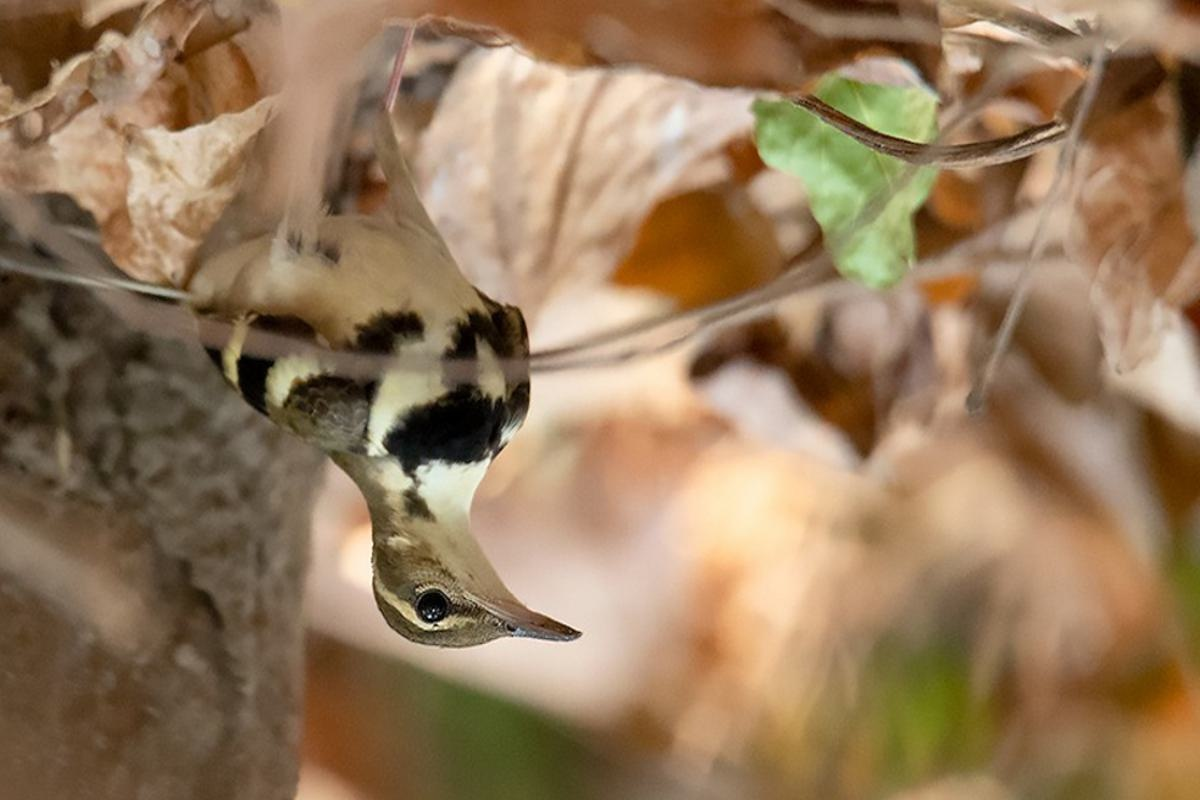wagtail: (144, 190, 606, 687)
